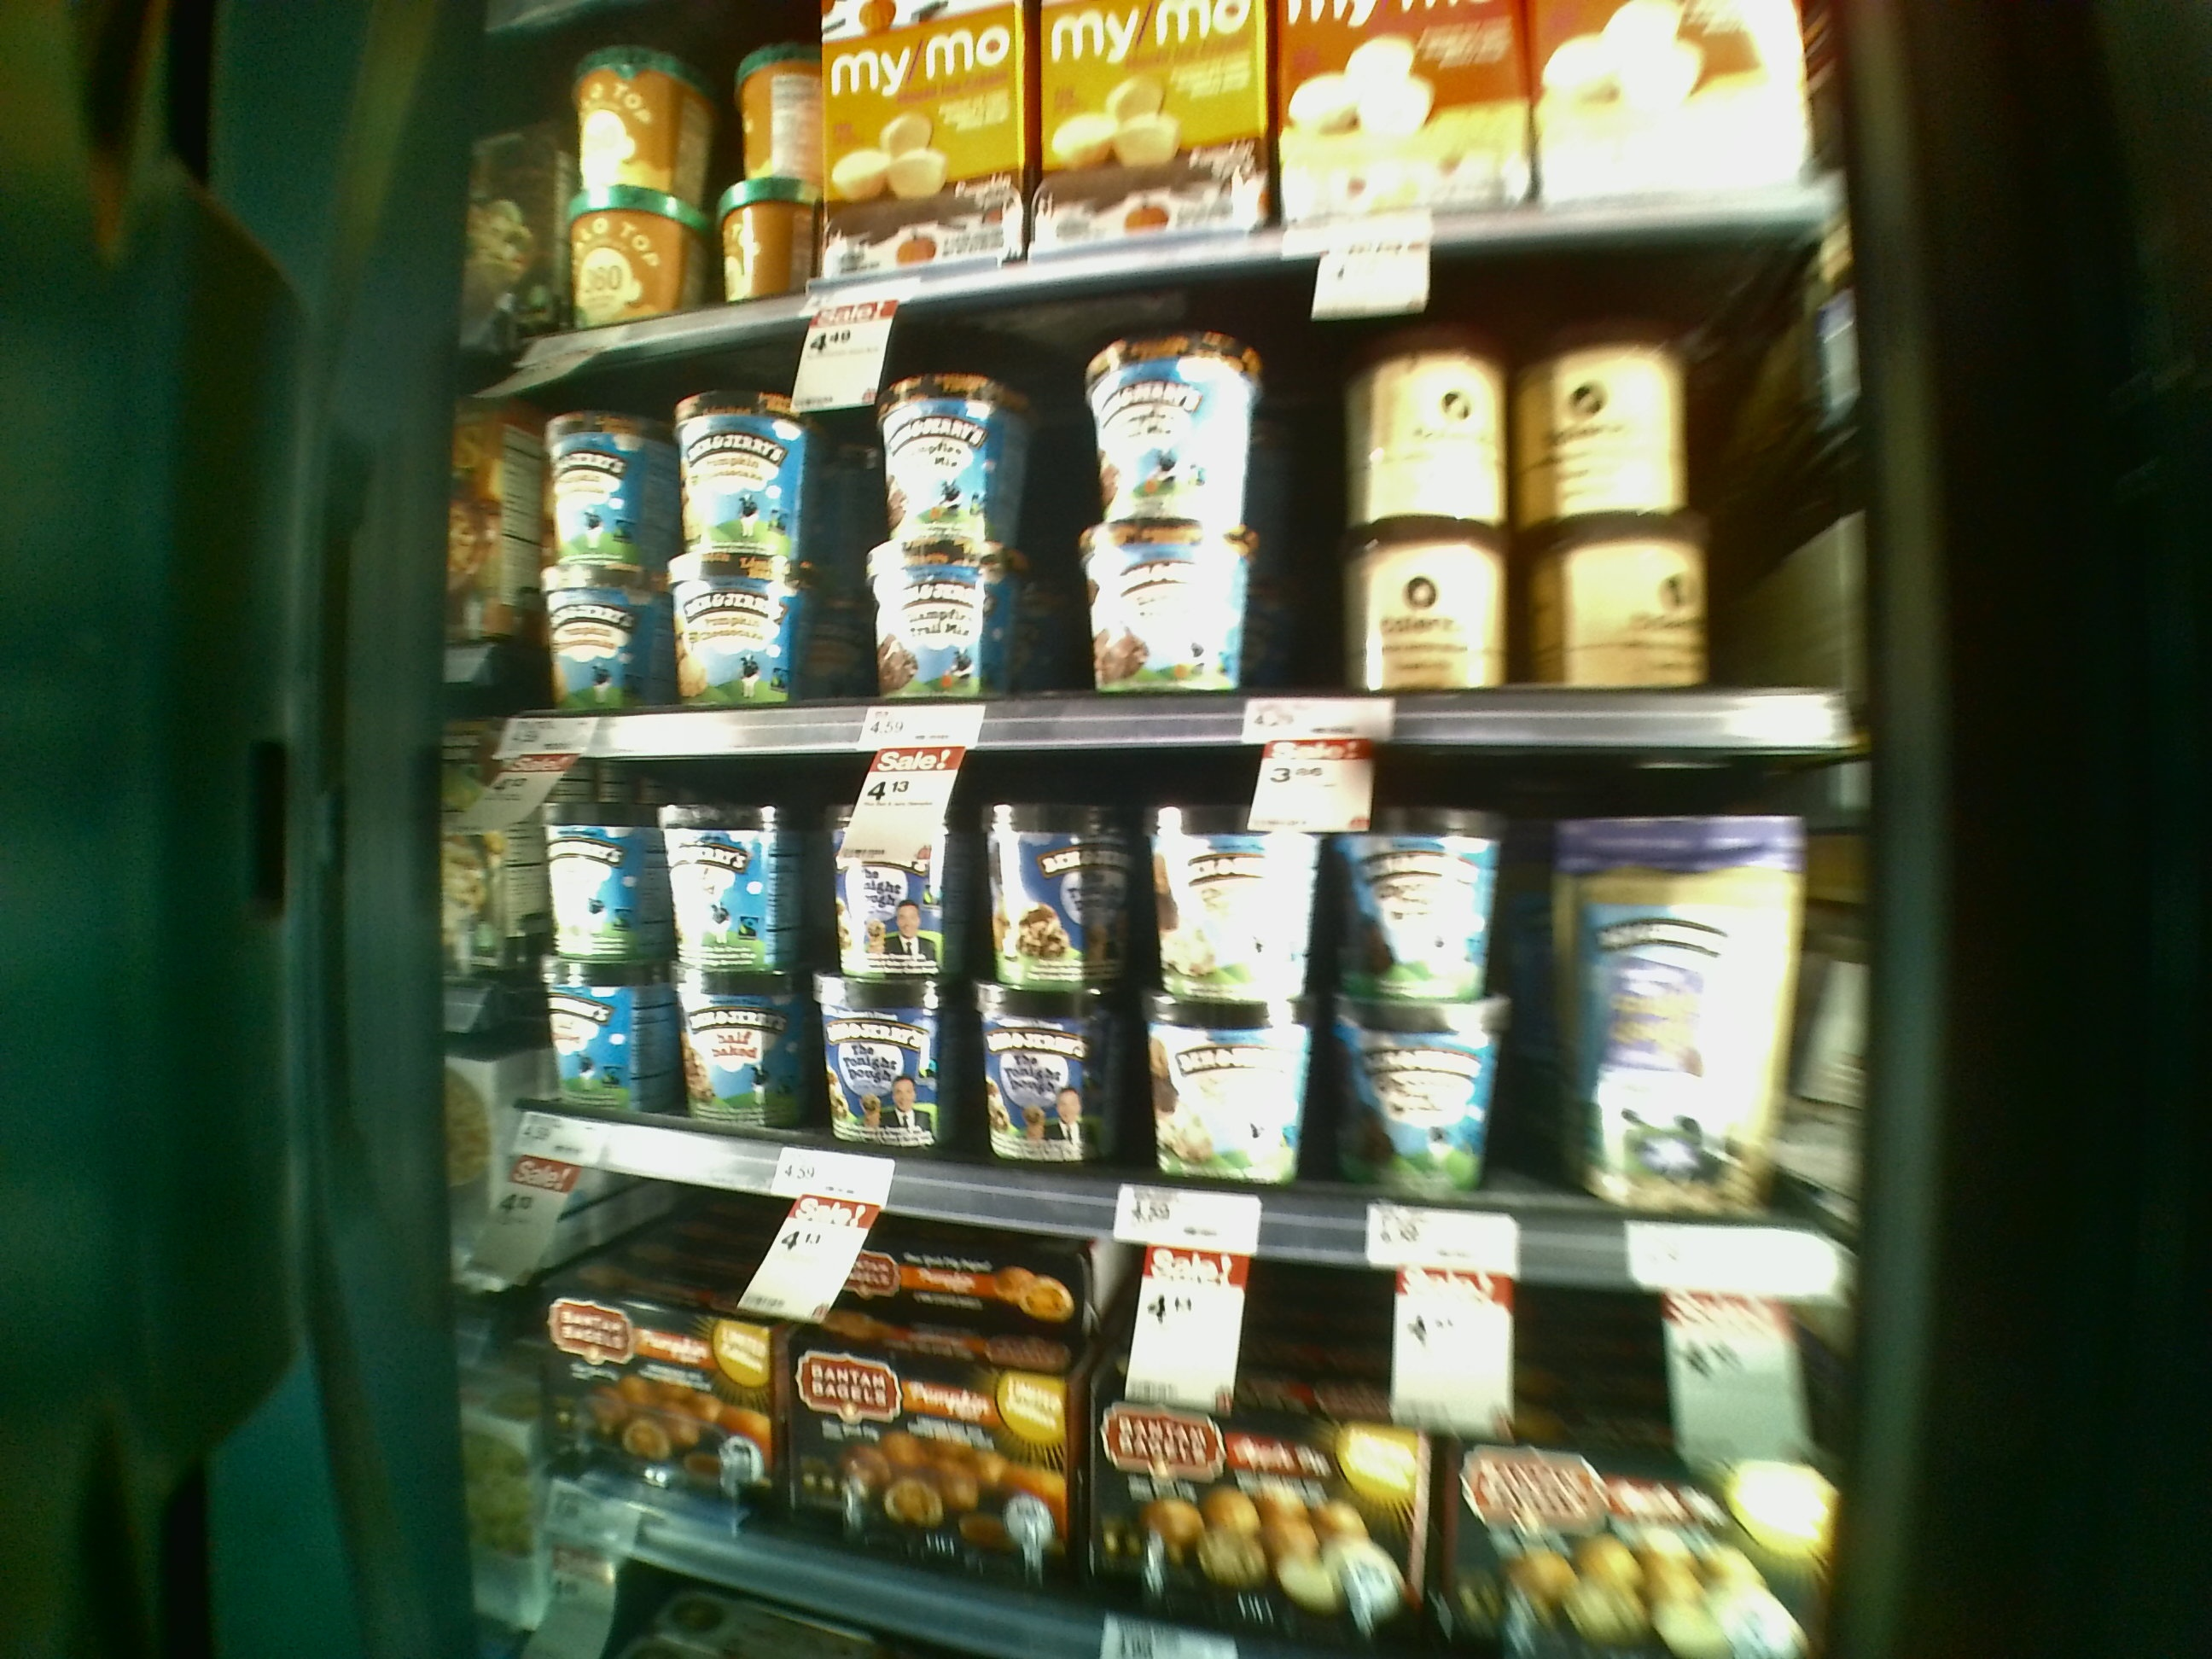shelf: (498, 718, 1858, 1286), (509, 319, 1825, 741)
